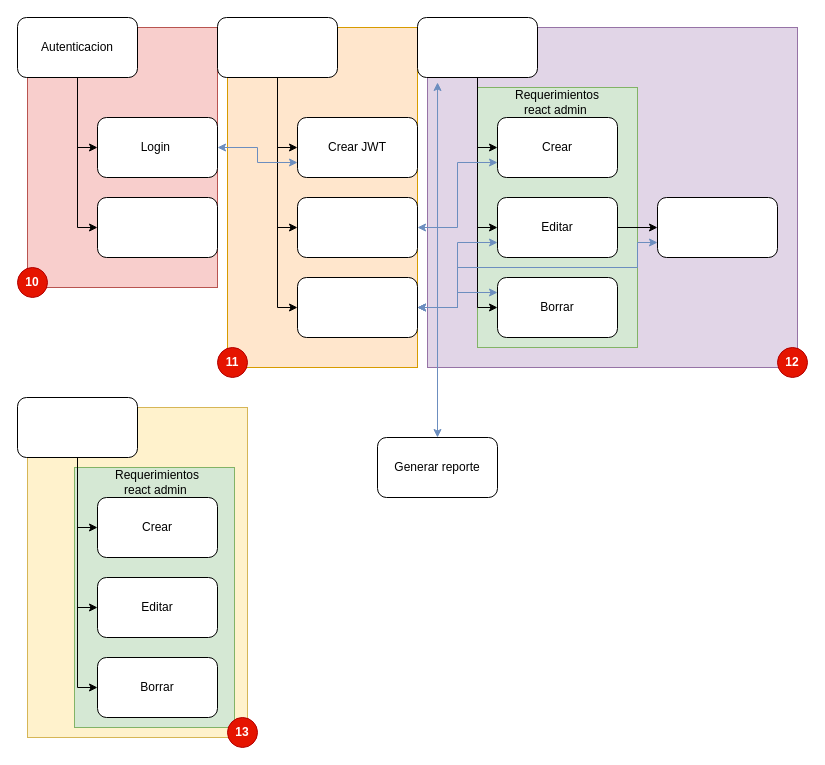
Some shapes in this 825 by 765 pixel diagram are drawn without their labels. The centre of each missing label's shape, as x and y in pixels:
Autenticar JWT: the point at 357,227
Cambiar estatus: the point at 717,227
Crear filtros de autorizacion: the point at 357,307
Endpoints adicionales: the point at 77,427
JWT: the point at 277,47
Registrar: the point at 157,227
Tickets: the point at 477,47
